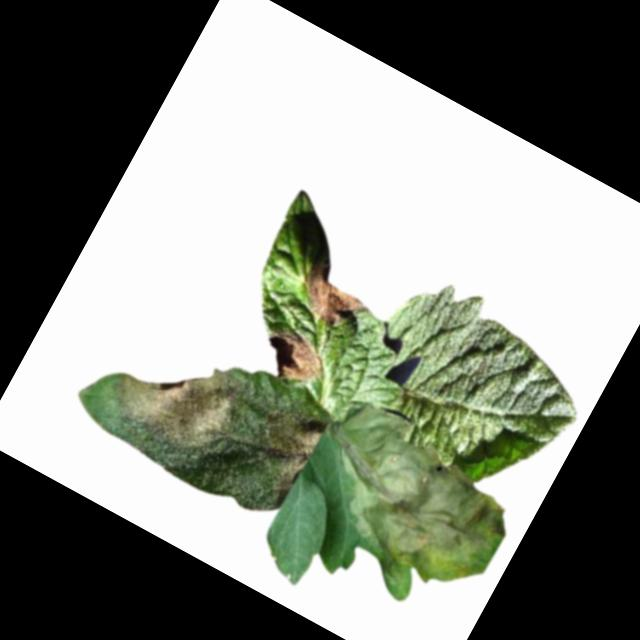Late_blight: (281, 397, 529, 630), (89, 324, 254, 486), (228, 395, 329, 515), (287, 253, 379, 338), (250, 315, 338, 396)
healthy: (338, 260, 607, 511)
